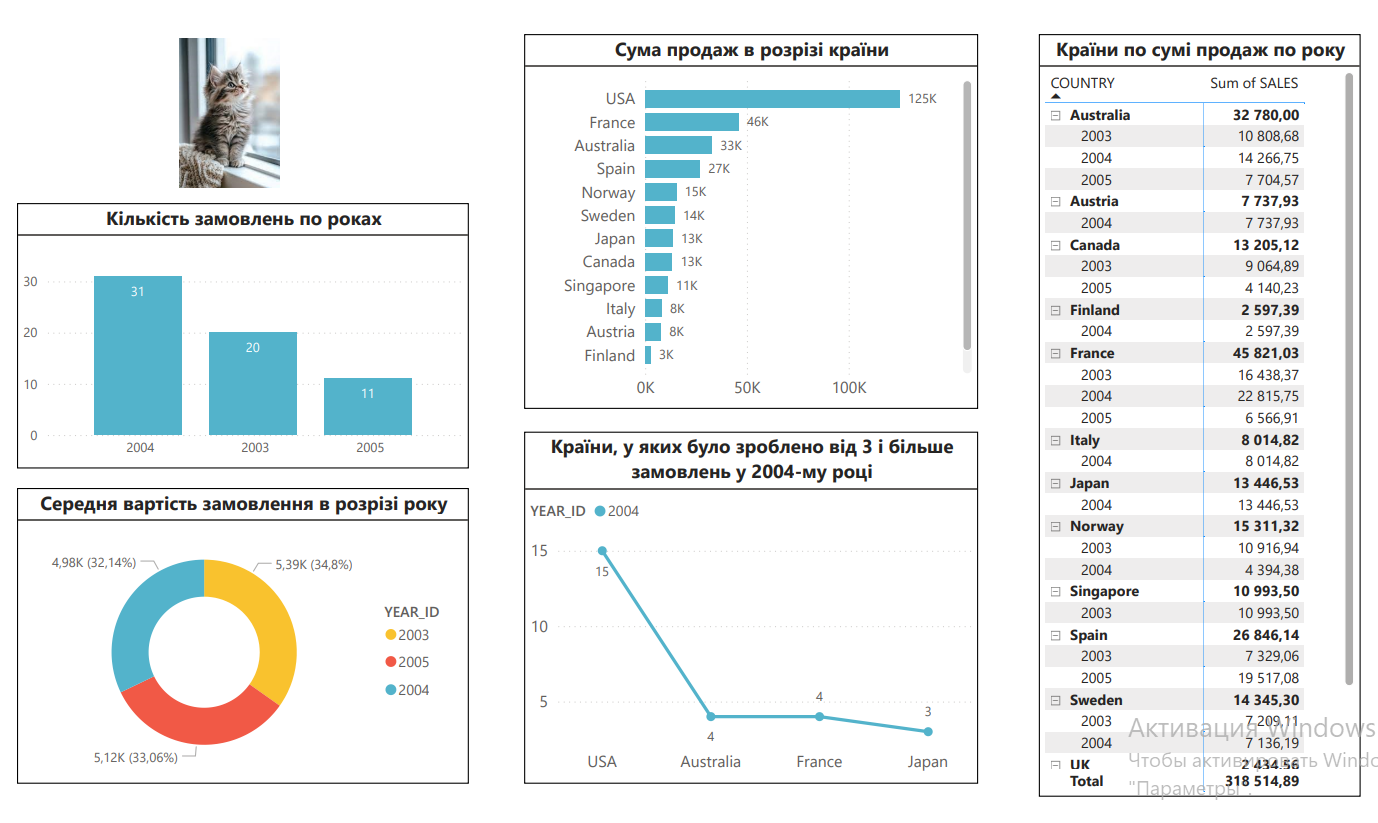

This screenshot's page, from the dashboard's own definition file:
{"tool":"powerbi","page":{"name":"Показники","canvas":[1280,720],"ordinal":0},"visuals":[{"type":"barChart","title":"Сума продаж в розрізі країни","fields":{"Category":["Year_country.COUNTRY"],"Y":["Sum(Sales_size.SALES)"]},"box":[467.7,12.6,419,346.8],"z":0},{"type":"columnChart","title":"Кількість замовлень по роках","fields":{"Category":["Year_country.YEAR_ID"],"Y":["CountNonNull(Year_country.ORDERNUMBER)"]},"box":[0,169.5,417.4,244.8],"z":1000},{"type":"donutChart","title":"Cередня вартість замовлення в розрізі року","fields":{"Category":["Year_country.YEAR_ID"],"Y":["Avg(Sales_size.SALES)"]},"box":[0,431.6,417.4,273.1],"z":2000},{"type":"lineChart","title":"Країни, у яких було зроблено від 3 і більше замовлень у 2004-му році ","fields":{"Category":["Year_country.COUNTRY"],"Y":["Count(Sales_size.ORDERNUMBER)"],"Series":["Year_country.YEAR_ID"]},"box":[467.7,379.8,419,324.8],"z":3000},{"type":"pivotTable","title":"Kраїни по сумі продаж по року","fields":{"Rows":["Year_country.COUNTRY","Year_country.YEAR_ID"],"Values":["Sum(Sales_size.SALES)"]},"box":[943.2,12.6,296.6,704.6],"z":5000},{"type":"image","box":[0,12.4,391.3,147.4],"z":5001}]}

Visuals, with their boxes in screenshot pixels (x1, y1, x2, y2):
"Сума продаж в розрізі країни" barChart: BBox(529, 60, 974, 428)
"Кількість замовлень по роках" columnChart: BBox(32, 227, 475, 487)
"Cередня вартість замовлення в розрізі року" donutChart: BBox(32, 505, 475, 795)
"Країни, у яких було зроблено від 3 і більше замовлень у 2004-му році " lineChart: BBox(529, 450, 974, 795)
"Kраїни по сумі продаж по року" pivotTable: BBox(1034, 60, 1349, 808)
image: BBox(32, 60, 448, 216)
